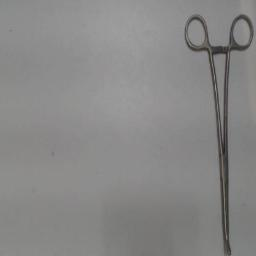Lahey Forceps: (182, 10, 254, 254)
